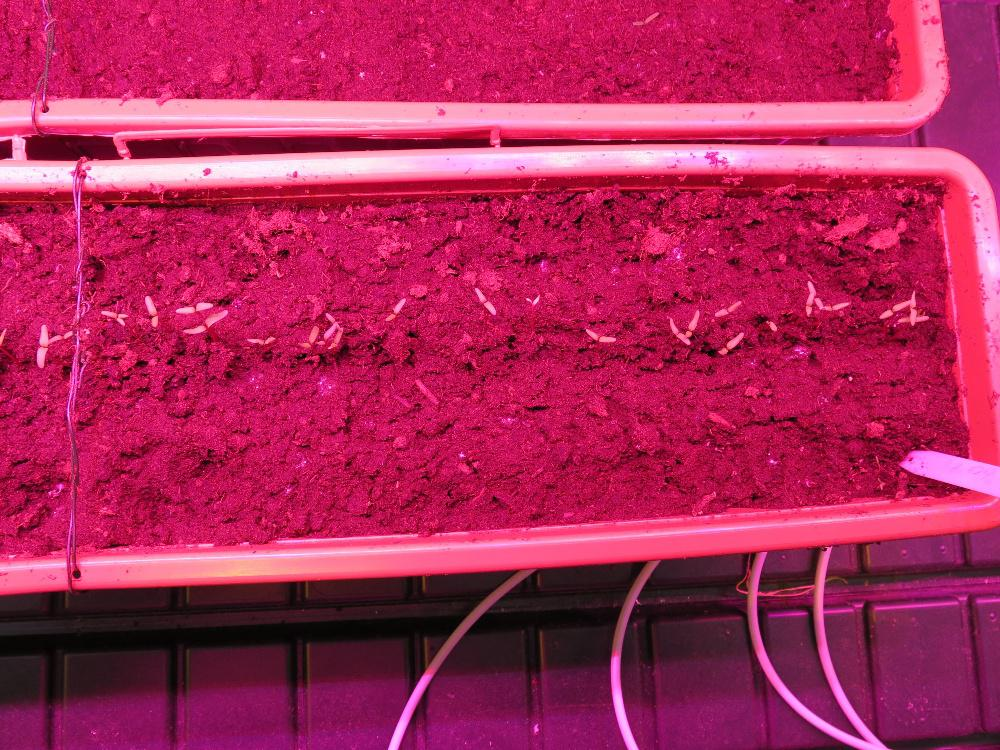crop: (472, 284, 496, 315), (716, 329, 743, 355), (383, 295, 405, 322), (583, 325, 616, 343), (141, 293, 157, 328), (173, 300, 213, 314), (712, 298, 741, 317), (243, 333, 275, 345)
